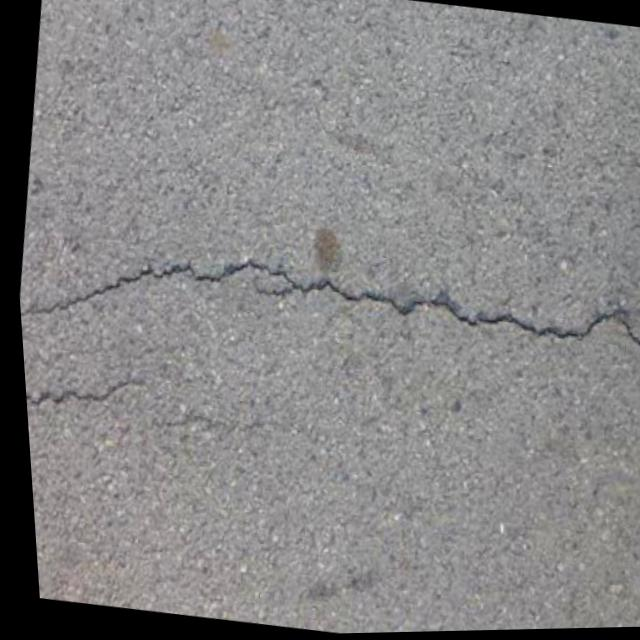Crack: (11, 203, 640, 422), (18, 351, 155, 450)
